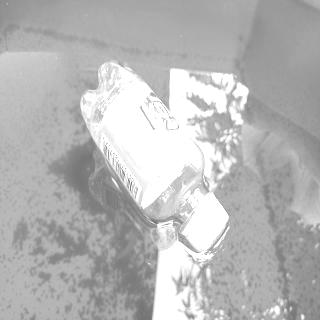bottle: (78, 59, 232, 254)
